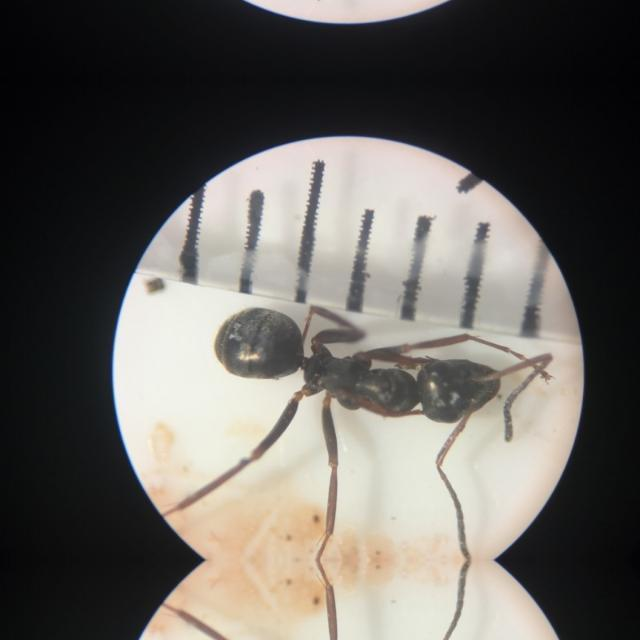Formica: (194, 258, 544, 480)
